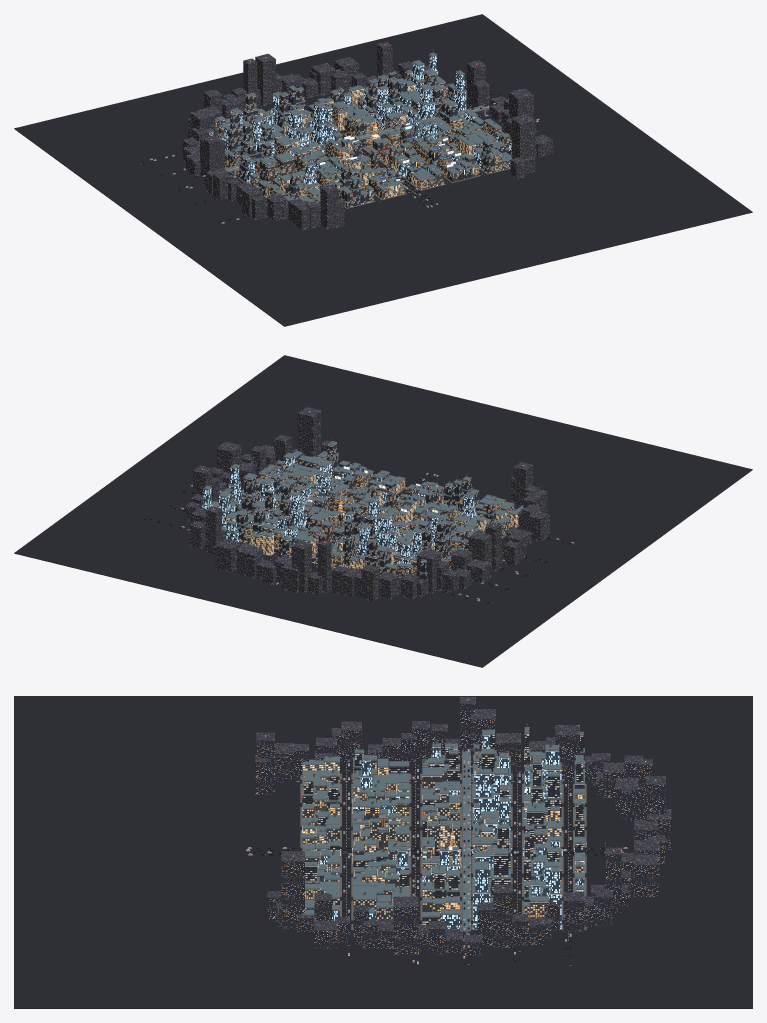
The model's file is akasaka.glb.
3 views of the same model, one above another, from view 1: azimuth 30°, elevation 25°; view 2: azimuth 150°, elevation 25°; view 3: azimuth 270°, elevation 25° (orthographic). The views are drawn at different scales.
Parts seen in each view (by area): view 1: street, skyline, roof, facade5, facade3, concrete, facade2, facade0, facade1, facade4, metal, crown (+1 smaller); view 2: street, skyline, roof, facade5, facade3, concrete, facade2, facade4, facade0, facade1, metal, crown; view 3: street, skyline, roof, facade5, facade3, concrete, paving, facade1, facade2, facade4, facade0, metal (+3 smaller).
Boxes of the visible parts, x1,y1,x2,y2 form: street: (14,14,752,326); skyline: (182,41,553,230); roof: (209,52,512,204); facade5: (228,72,505,207); facade3: (222,54,511,184); concrete: (209,54,512,202); facade2: (217,81,502,204); facade0: (215,99,510,199); facade1: (209,100,510,202); facade4: (258,85,475,197); metal: (198,50,507,198); crown: (209,72,492,178); street: (14,355,752,667); skyline: (185,407,549,601); roof: (194,441,523,574); facade5: (229,443,495,579); facade3: (202,455,480,564); concrete: (194,443,519,575); facade2: (216,456,505,575); facade4: (226,474,518,569); facade0: (252,456,510,575); facade1: (261,460,514,579); metal: (226,442,521,560); crown: (202,443,475,568); street: (14,696,752,1008); skyline: (255,697,671,955); roof: (302,727,584,930); facade5: (302,733,584,924); facade3: (320,735,583,928); concrete: (302,733,584,934); paving: (300,773,586,930); facade1: (302,748,584,928); facade2: (302,761,584,928); facade4: (302,757,584,909); facade0: (302,766,533,928); metal: (304,724,605,926).
Size of the model in its own units: 320 by 33.43 by 320.
34 materials, 21 textured.
